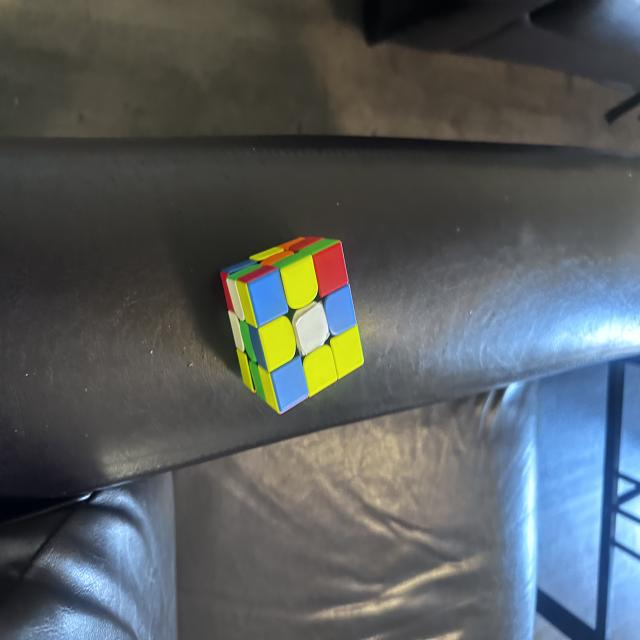sticker: (240, 266, 288, 328), (254, 314, 297, 373), (269, 353, 309, 412), (291, 298, 330, 357), (279, 253, 318, 311), (312, 238, 349, 298), (328, 323, 364, 379), (302, 342, 338, 397), (323, 283, 358, 337)
